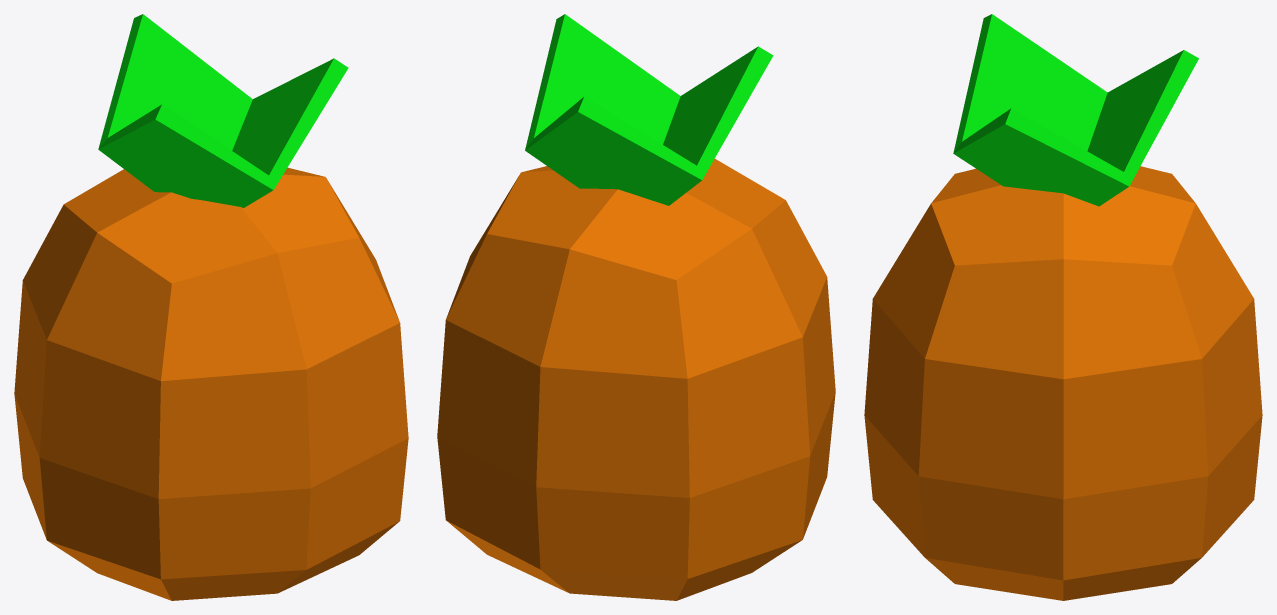
The model's file is pineapple.fbx.
3 renders of one model, left to right at view 1: azimuth 30°, elevation 25°; view 2: azimuth 150°, elevation 25°; view 3: azimuth 270°, elevation 25°, orthographic.
Parts seen in each view (by area): view 1: Cube.003; view 2: Cube.003; view 3: Cube.003.
Part boxes in pixels (box(x1,y1,x2,y2)): Cube.003: box(14, 14, 408, 600); Cube.003: box(437, 14, 835, 600); Cube.003: box(864, 14, 1262, 600).
Bounding box in the file's own units: 83.73 × 117 × 83.73.
